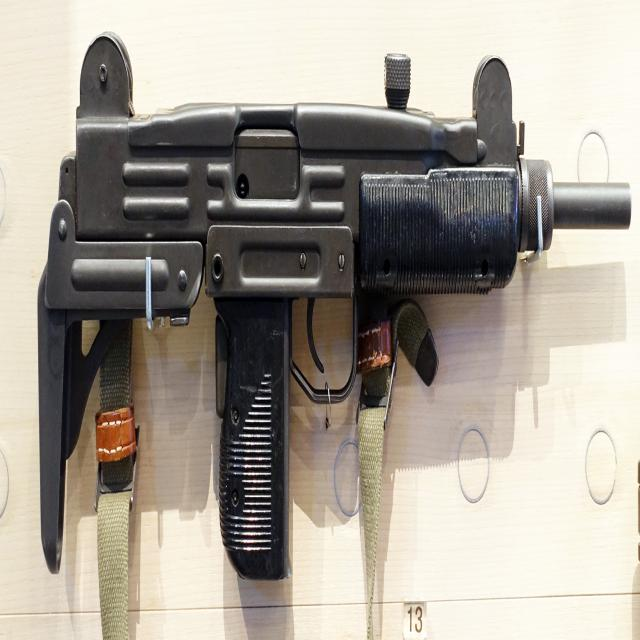SMG: (37, 37, 633, 583)
